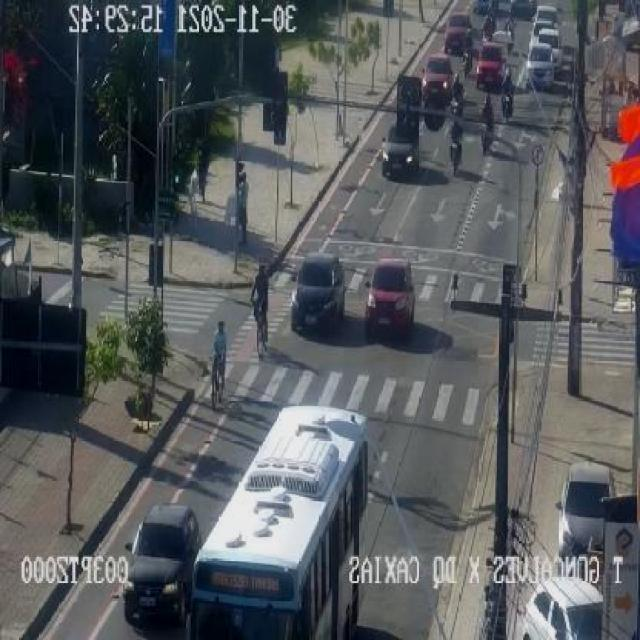Bus: (187, 404, 371, 640)
Car: (123, 506, 200, 627), (516, 573, 604, 640), (559, 462, 616, 556), (291, 254, 347, 335), (364, 259, 416, 340), (380, 124, 419, 180), (422, 54, 454, 104), (476, 44, 508, 90), (526, 43, 556, 89), (444, 12, 472, 54), (533, 29, 560, 60), (533, 4, 560, 30)
Cycle: (247, 293, 270, 357), (210, 348, 226, 408), (448, 135, 463, 178), (479, 110, 493, 154), (450, 90, 464, 133), (500, 87, 514, 115), (462, 57, 472, 79)
